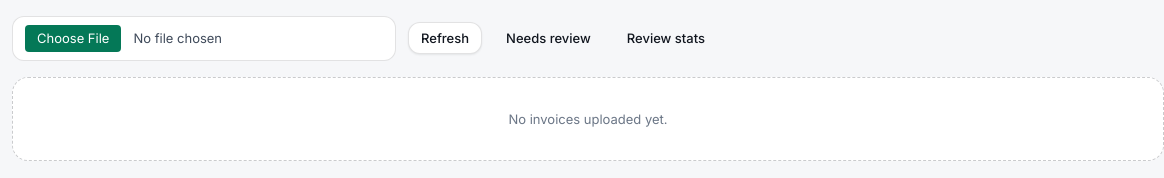
Test: DocumentManager cursor paging › does not show Load more when hasMore is false
The width and height of the screenshot is (1164, 178).
Click the button "Needs review" at coordinates (548, 38), box left=494, top=22, right=603, bottom=54
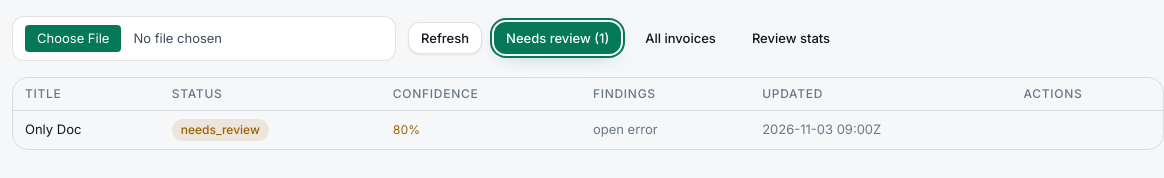
Check: the button "Only Doc" is shown, box left=25, top=120, right=81, bottom=139
